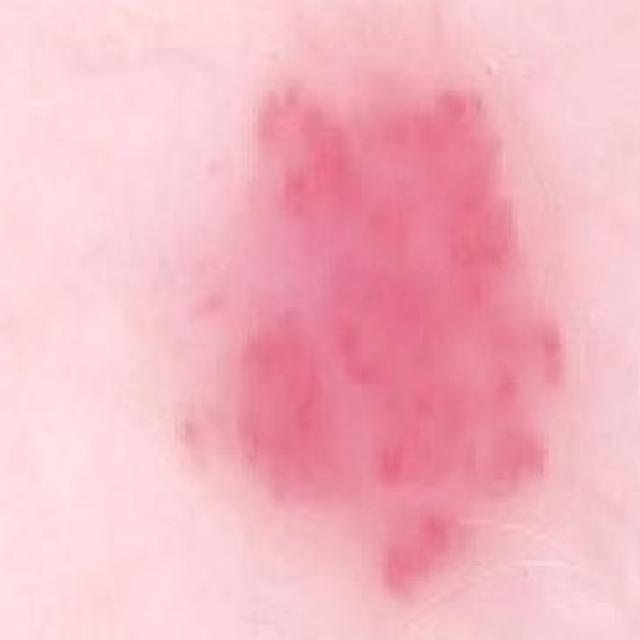VASC: (204, 0, 569, 601)
